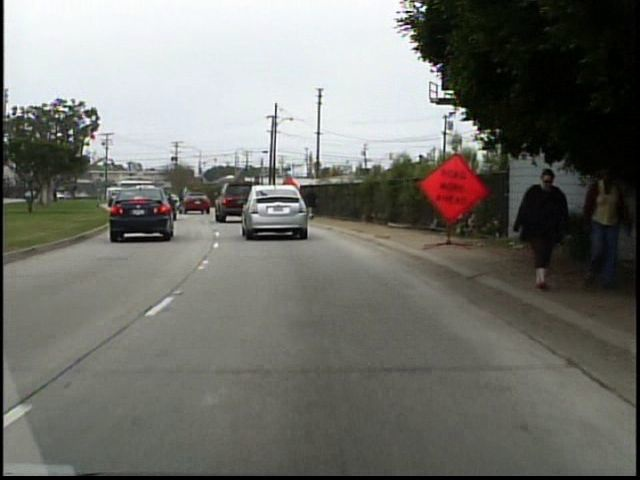person: (503, 162, 570, 300), (570, 159, 626, 291), (300, 179, 322, 217)
